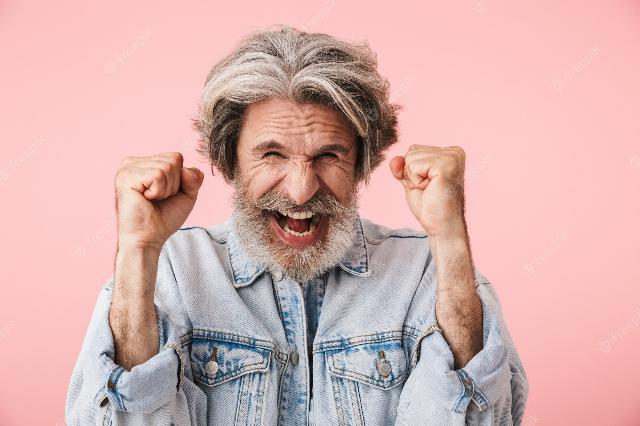crows_feet: (336, 155, 354, 173), (248, 152, 264, 172)
forehead: (298, 111, 324, 140), (268, 114, 292, 136), (328, 120, 344, 142)
frown_line: (298, 150, 312, 172)
gummy_smile: (315, 175, 339, 199), (264, 172, 284, 198)
